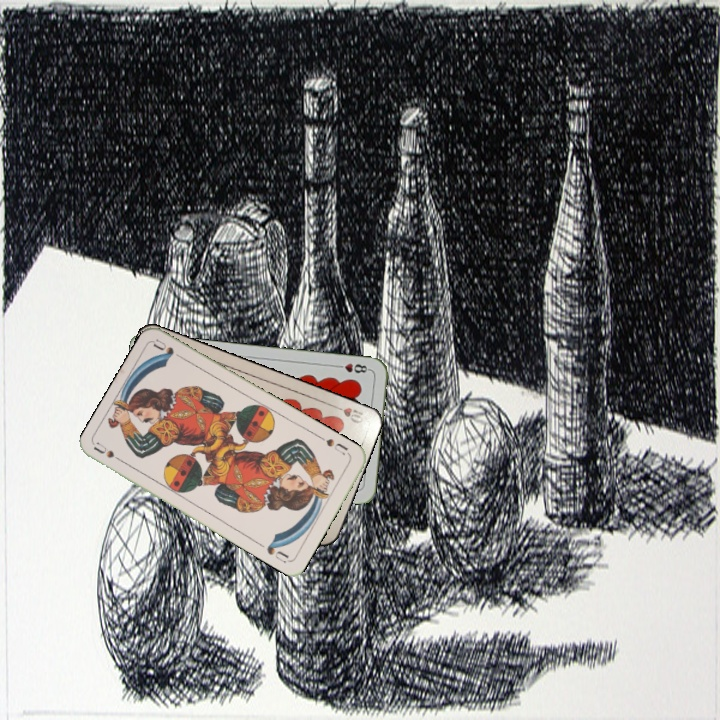H10: (328, 400, 369, 426)
H8: (332, 359, 372, 376)
SU: (91, 438, 129, 467), (316, 432, 350, 457)
